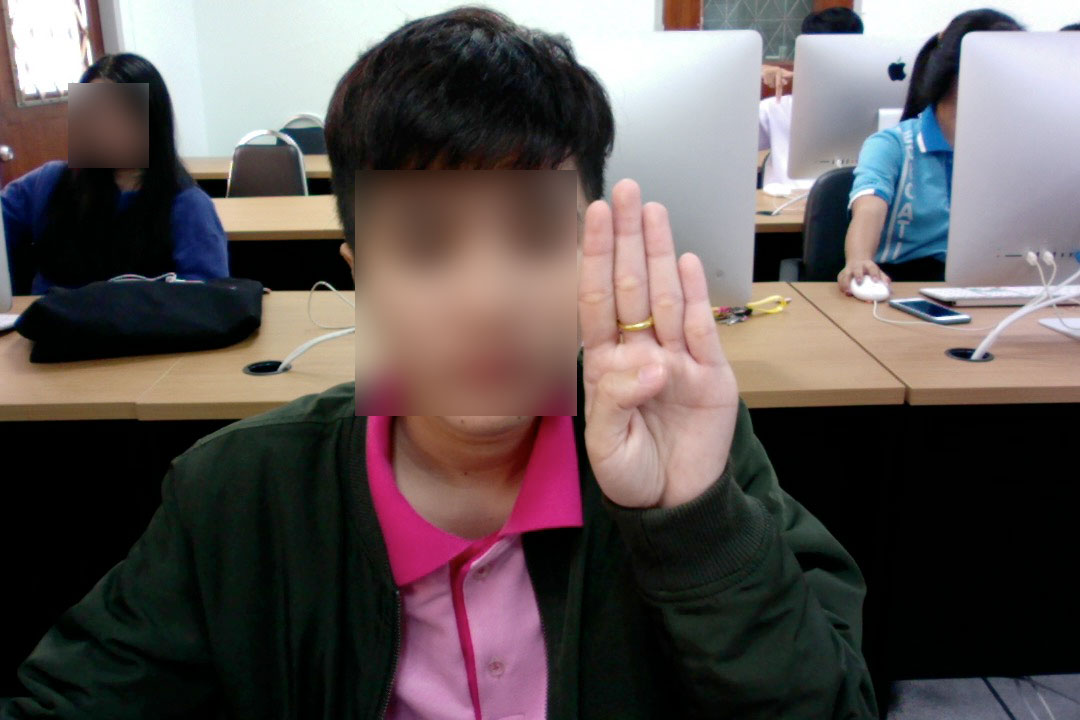bor: (561, 173, 744, 568)
